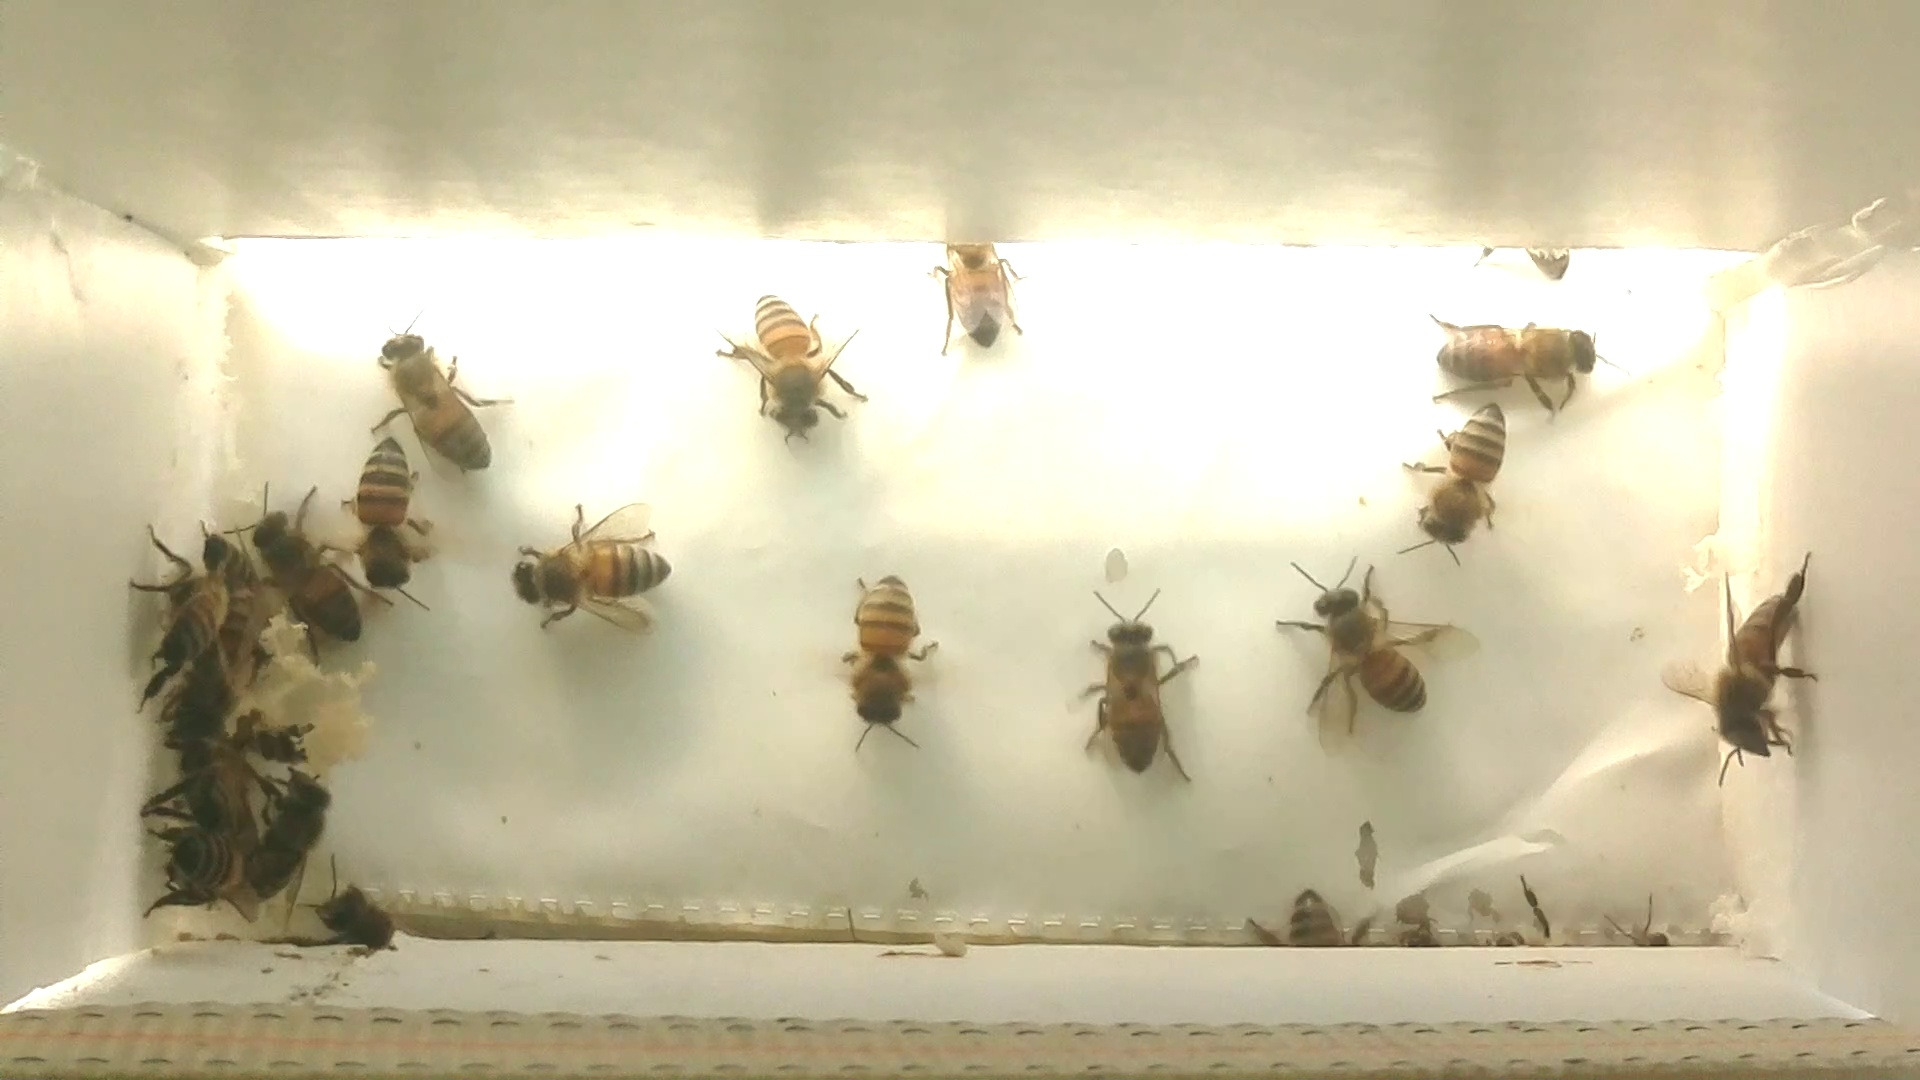bee: (1656, 550, 1838, 789), (1273, 549, 1481, 756), (491, 493, 703, 647), (1065, 580, 1211, 786), (709, 284, 881, 454), (1404, 298, 1633, 421), (241, 485, 394, 663), (814, 555, 945, 760), (1389, 394, 1534, 578), (367, 319, 521, 483), (328, 431, 459, 616), (124, 533, 251, 696), (923, 229, 1048, 365), (235, 758, 331, 920), (141, 789, 255, 924), (294, 856, 419, 967), (1244, 880, 1385, 963)
